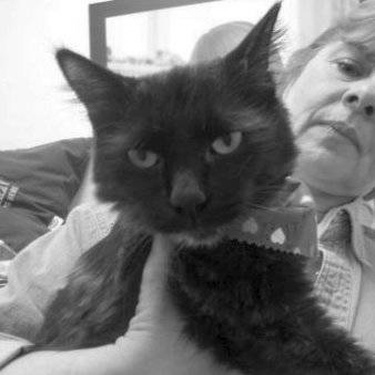cat: (36, 6, 371, 371)
